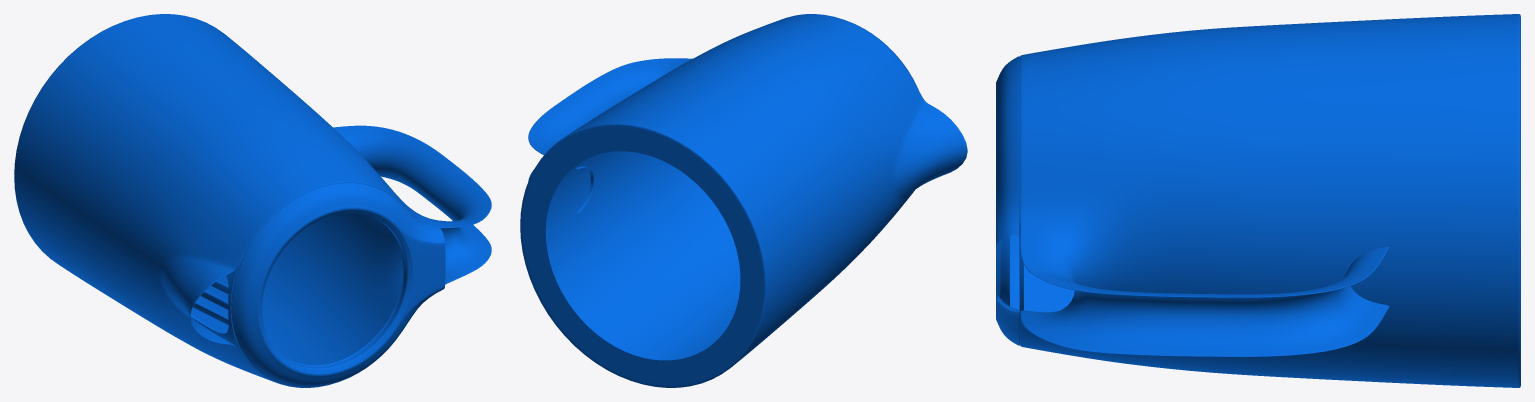
3 views of the same model, side by side, from view 1: azimuth 30°, elevation 25°; view 2: azimuth 150°, elevation 25°; view 3: azimuth 270°, elevation 25° (orthographic). The views are drawn at different scales.
Bounding box in the file's own units: 0.8531 × 0.6317 × 0.8858.
